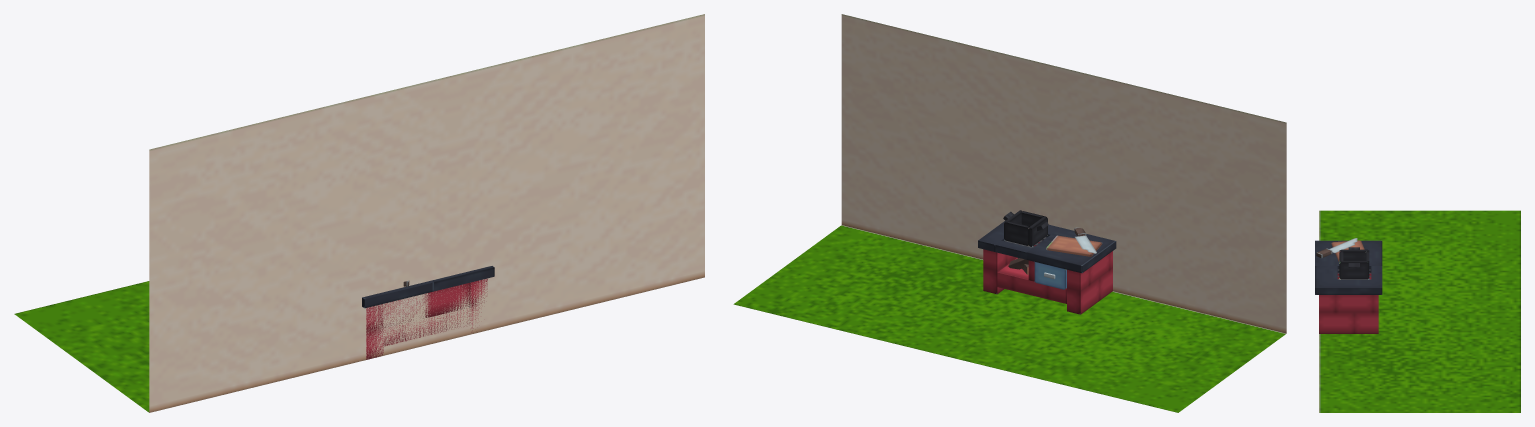
File: oven.obj
The picture shows the model from 3 angles, left to right: view 1: azimuth 30°, elevation 25°; view 2: azimuth 150°, elevation 25°; view 3: azimuth 270°, elevation 25°; orthographic projection. The views are drawn at different scales.
Visible parts, largest first — view 1: cube; view 2: cube, tabua de corte; view 3: cube.
Part boxes in pixels (box(x1,y1,x2,y2)): cube: box(14, 14, 704, 412); cube: box(733, 14, 1286, 412); tabua de corte: box(1046, 235, 1102, 256); cube: box(1315, 210, 1520, 412).
Bounding box in the file's own units: 8 × 3.62 × 3.44.
2 materials, 2 textured.
